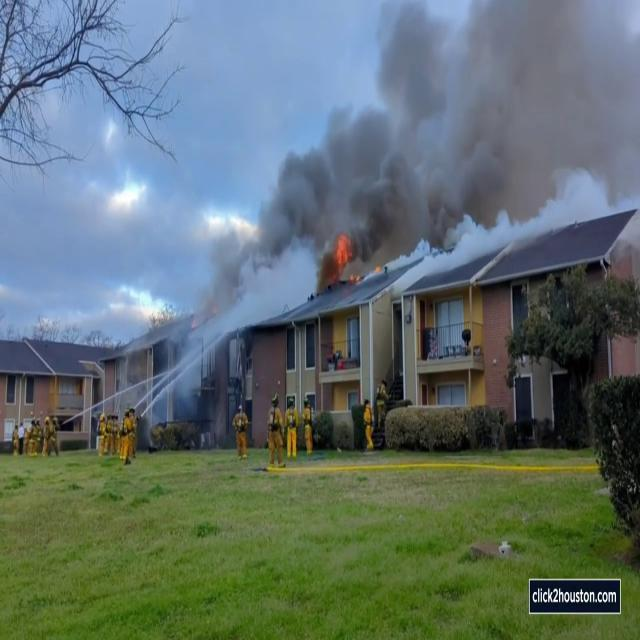Fire: (331, 229, 355, 281)
Smoke: (236, 0, 639, 269), (162, 208, 268, 430)
